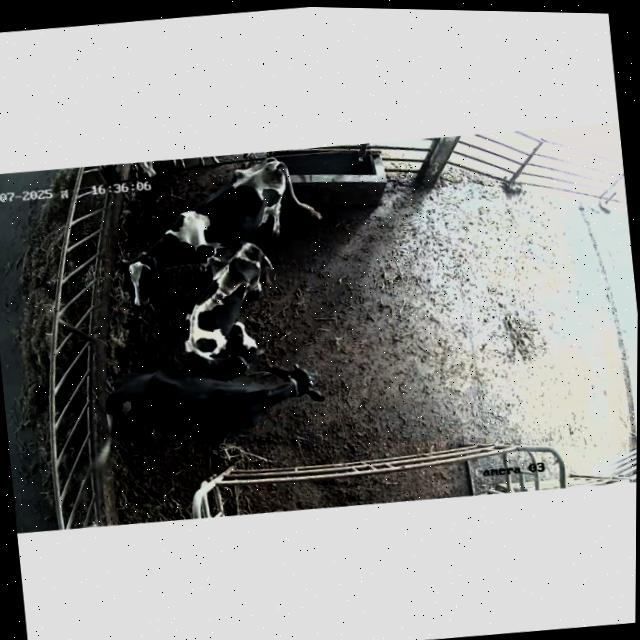stand: (115, 156, 322, 305), (106, 363, 324, 437)
